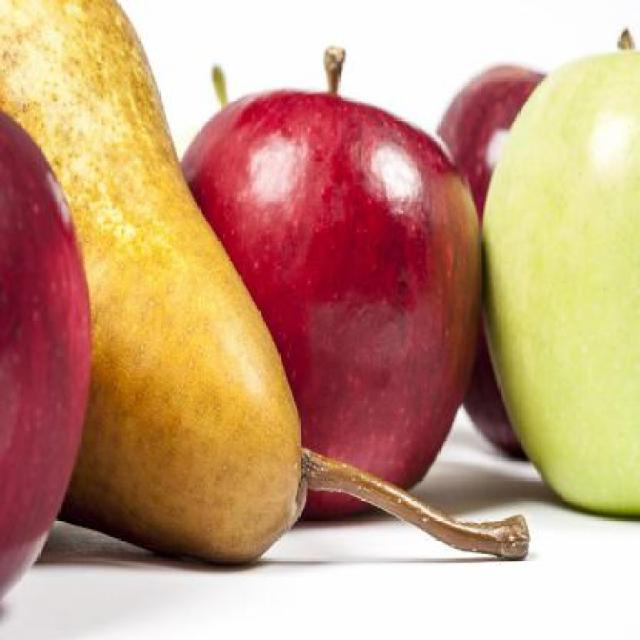Pear: (0, 0, 308, 568)
